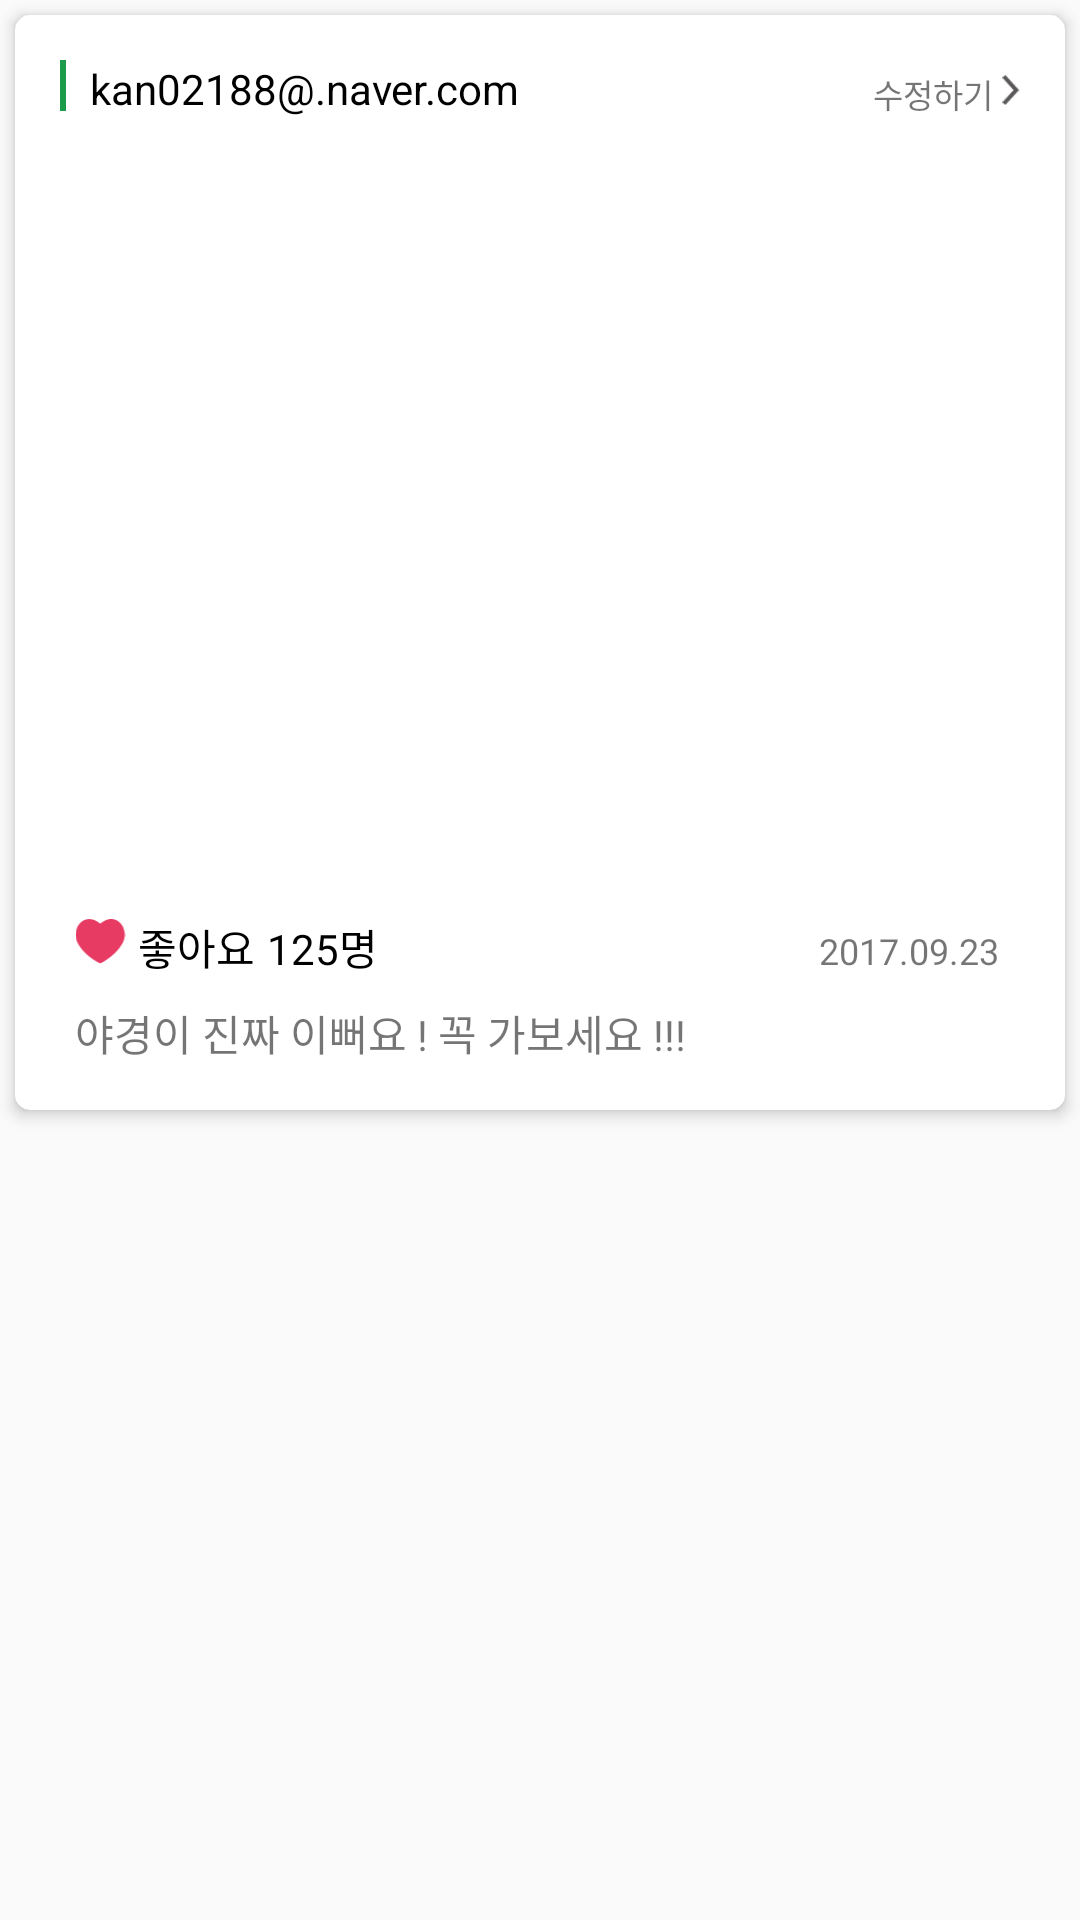

Icons on this 1080*1920 Android screen, each with its box as (x1, y1, x2, y2):
love: (76, 919, 126, 964)
